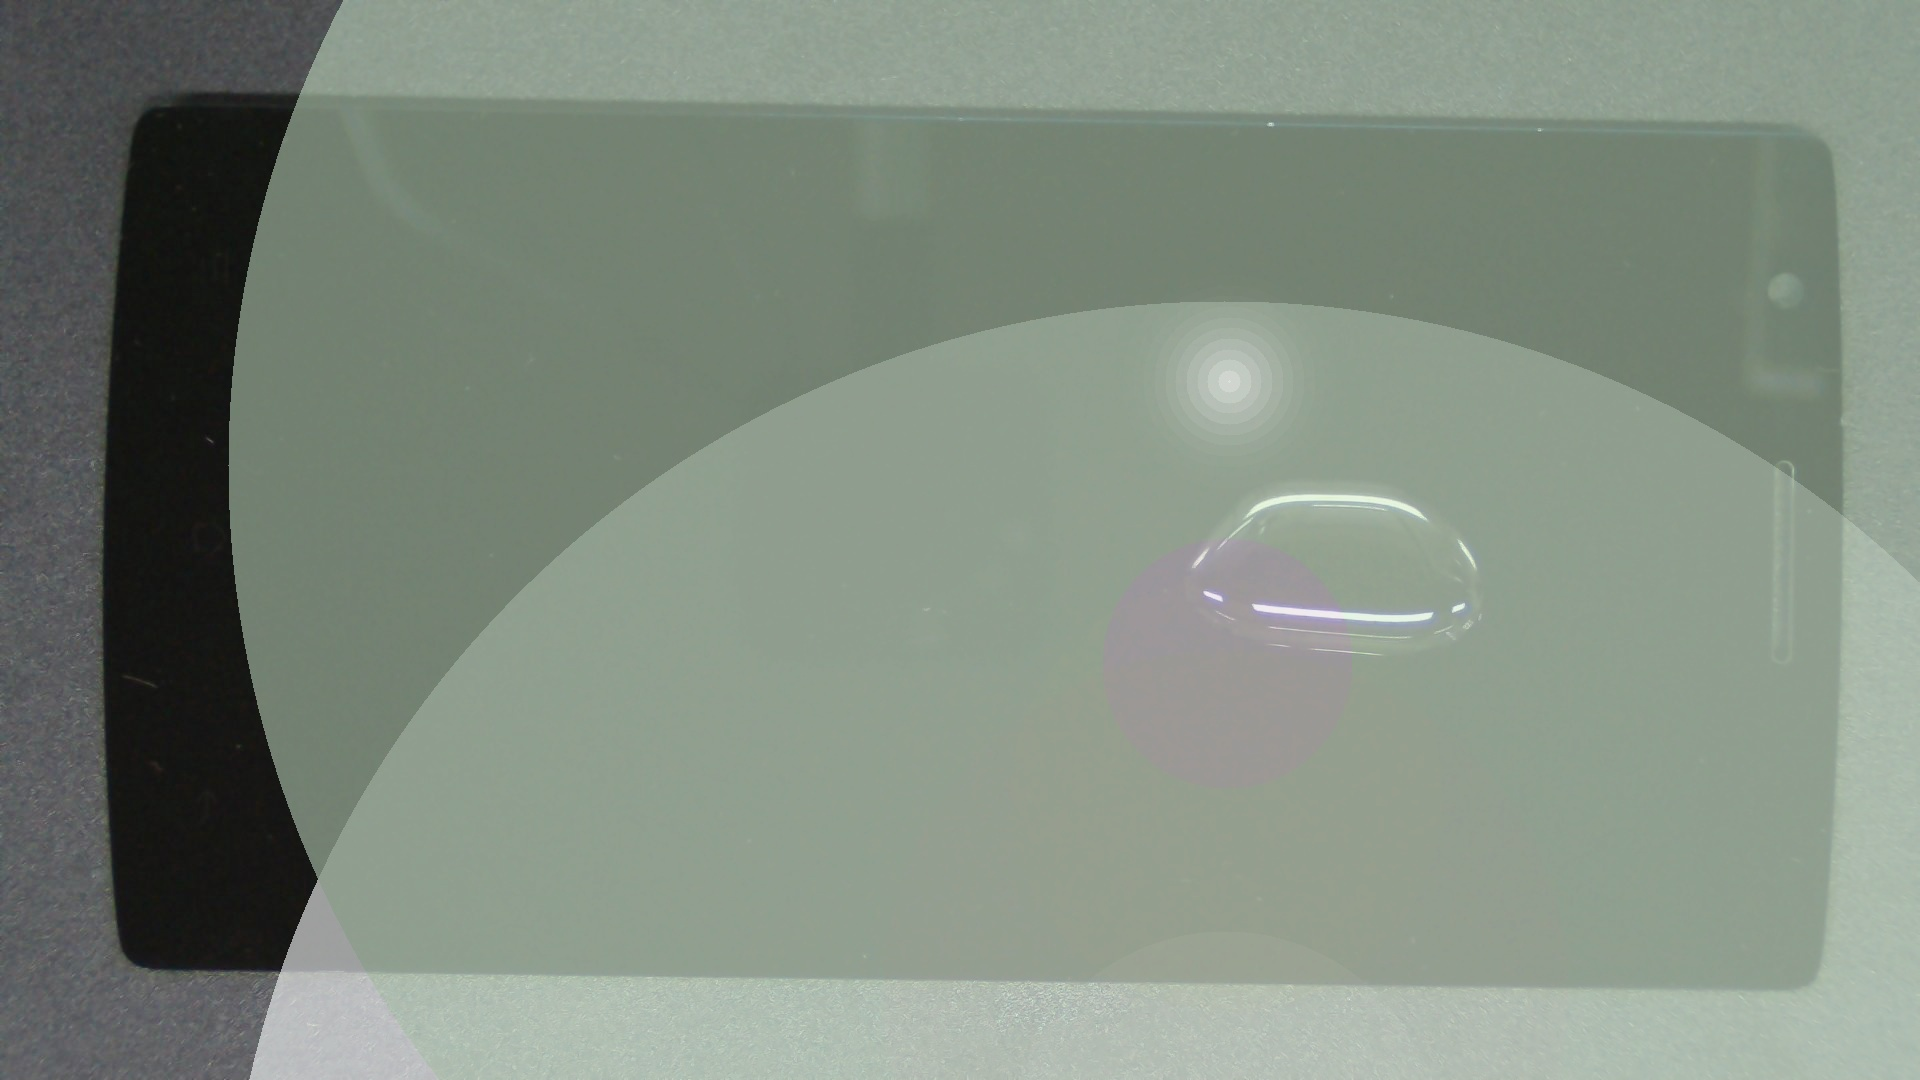oil: (637, 240, 1911, 720)
